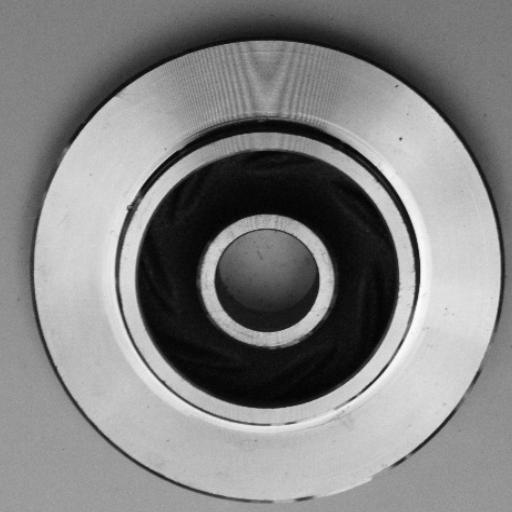scratch: (267, 399, 353, 441)
unpolished_casting: (32, 35, 503, 507)
